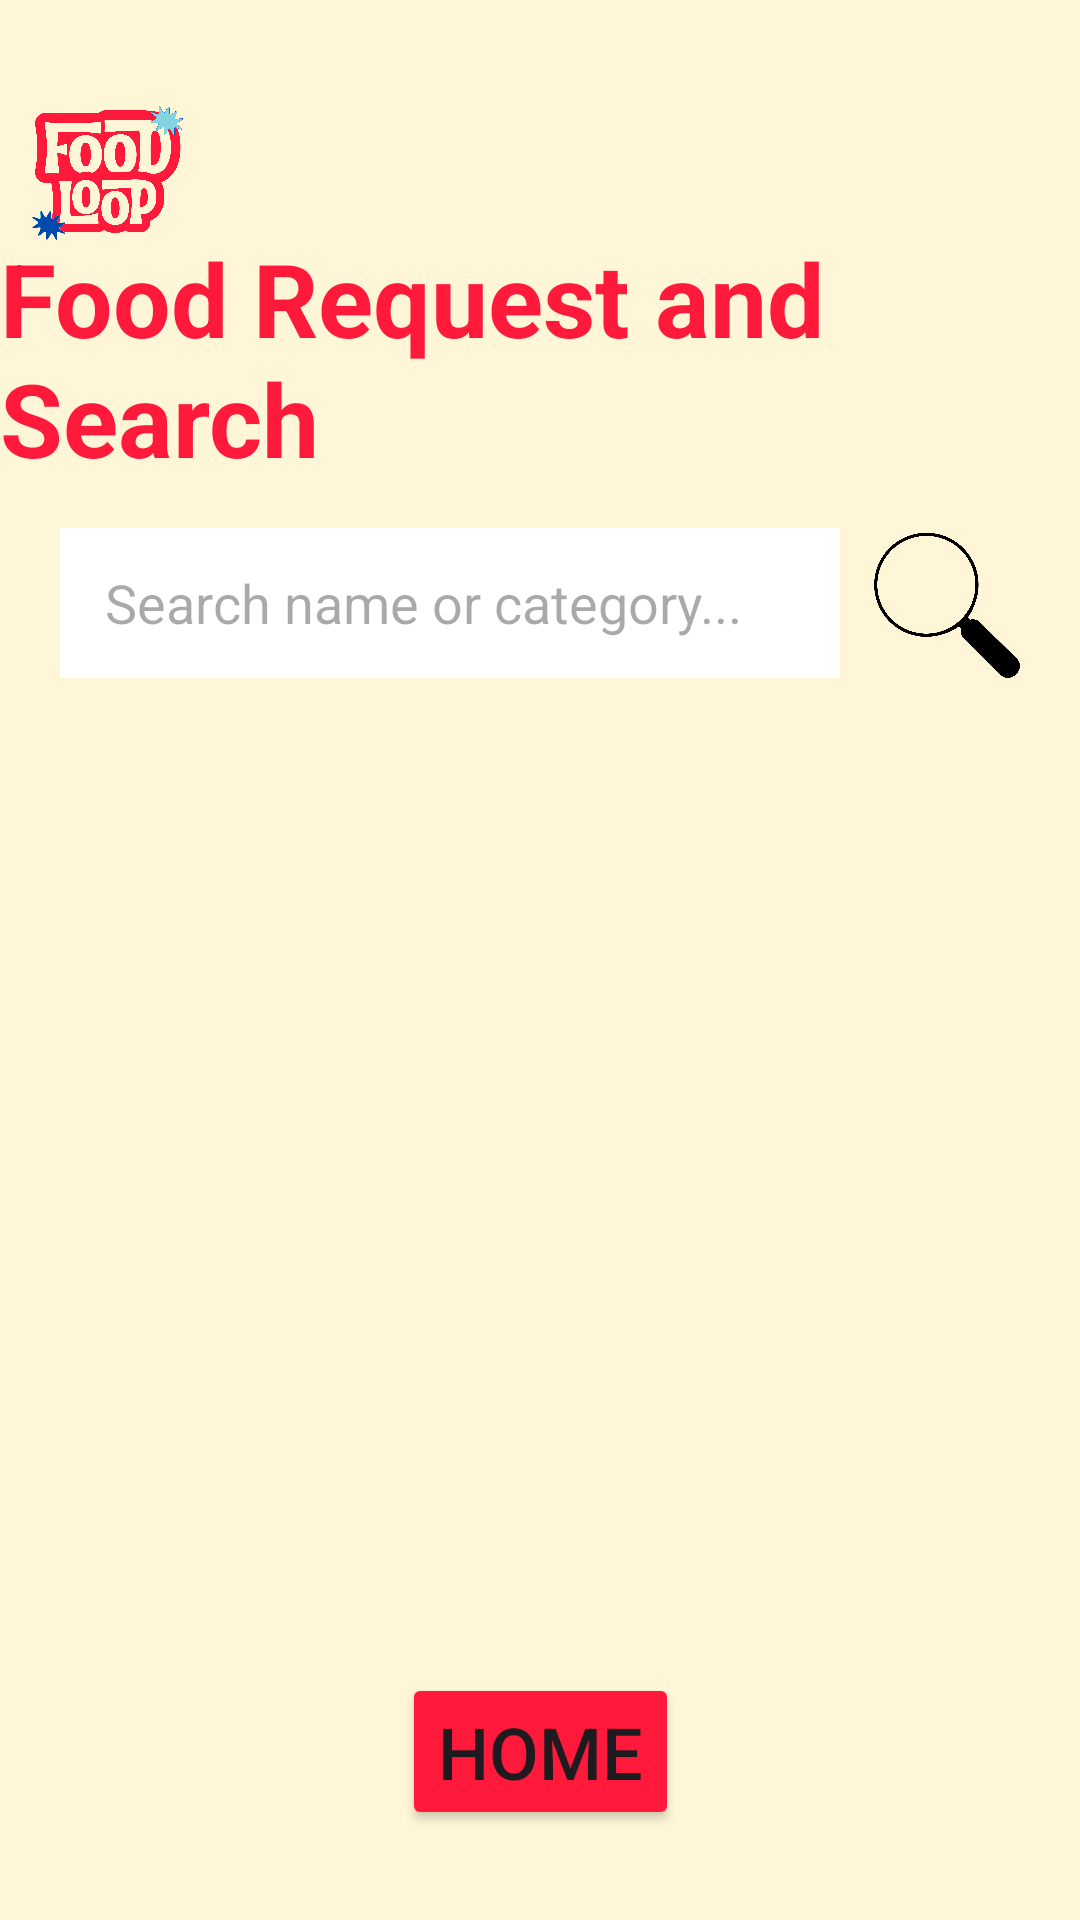

Named icons in this screenshot (1080x1920) and their centers, [x,y]:
magnifying glass: [947,605]
